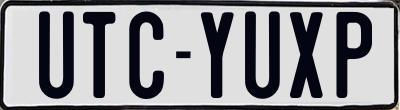C: (126, 11, 161, 103)
P: (336, 9, 372, 98)
T: (82, 10, 114, 102)
U: (242, 10, 279, 100), (38, 8, 74, 99)
X: (288, 11, 326, 99)
Y: (198, 11, 231, 98)
